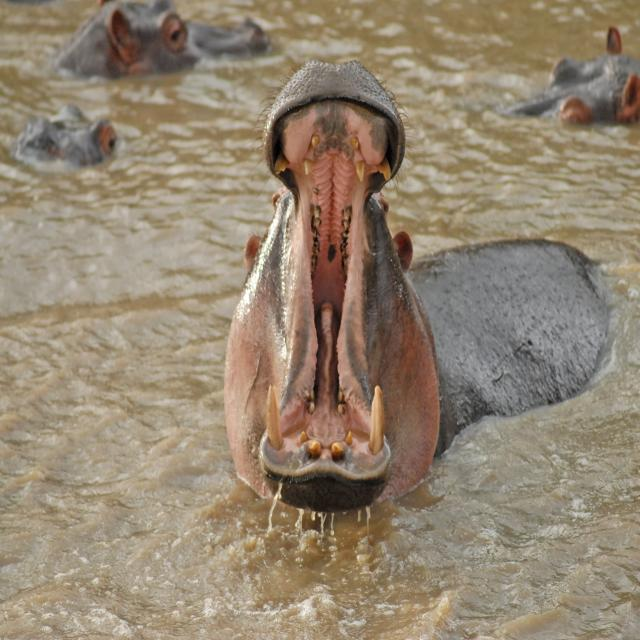Hippopotamus: (222, 56, 608, 528)
